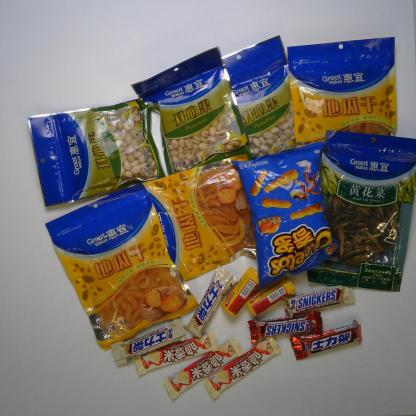Candy: (246, 274, 302, 320), (219, 264, 264, 318)
Chocolate: (159, 336, 249, 402), (199, 334, 286, 402), (131, 324, 222, 380), (107, 315, 190, 369), (181, 262, 238, 340), (288, 318, 366, 362), (245, 309, 326, 346), (281, 284, 360, 318)
Dried Food: (306, 127, 415, 298)
Dried Fruit: (43, 177, 200, 353), (126, 43, 259, 182), (140, 148, 267, 284), (23, 96, 170, 208), (285, 34, 399, 156), (219, 34, 297, 170)
Puffed Food: (230, 140, 344, 291)
